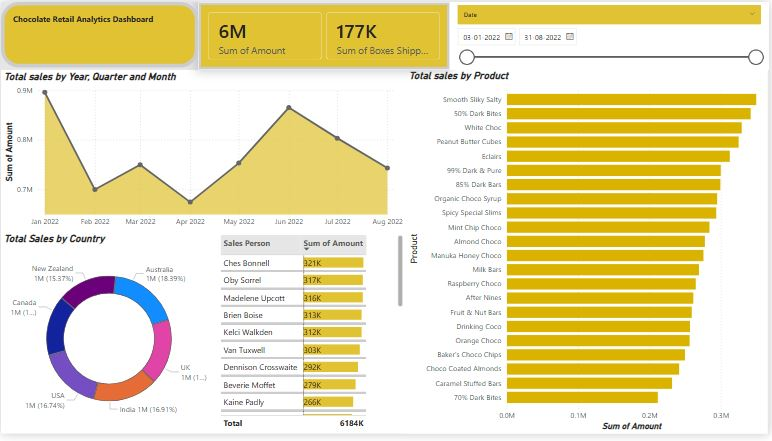

Layout of this report page (visuals, bound fields, positions):
{"tool":"powerbi","page":{"name":"Page 1","canvas":[1280,720],"ordinal":0},"visuals":[{"type":"donutChart","title":"Total Sales by Country","fields":{"Category":["Chocolate Sales.Country"],"Y":["Sum(Chocolate Sales.Amount)"]},"box":[0,383.8,360,336.2],"z":0},{"type":"tableEx","fields":{"Values":["Chocolate Sales.Sales Person","Sum(Chocolate Sales.Amount)"]},"box":[360,383.8,315,336.2],"z":1000},{"type":"lineChart","title":"Total sales by Year, Quarter and Month","fields":{"Y":["Sum(Chocolate Sales.Amount)"],"Category":["Chocolate Sales.Date.Variation.Date Hierarchy.Year","Chocolate Sales.Date.Variation.Date Hierarchy.Quarter","Chocolate Sales.Date.Variation.Date Hierarchy.Month","Chocolate Sales.Date.Variation.Date Hierarchy.Day"]},"box":[0,112.5,675,270],"z":2000},{"type":"clusteredBarChart","title":"Total sales by Product","fields":{"Category":["Chocolate Sales.Product"],"Y":["Sum(Chocolate Sales.Amount)"]},"box":[675,111.7,603.3,608.3],"z":2001},{"type":"cardVisual","fields":{"Data":["Sum(Chocolate Sales.Amount)","Sum(Chocolate Sales.Boxes Shipped)"]},"box":[328.3,0,420,113.3],"z":2002},{"type":"slicer","fields":{"Values":["Chocolate Sales.Date"]},"box":[748.8,0,531.2,112.5],"z":2003},{"type":"textbox","box":[0,0,328.3,108.3],"z":2005}]}

Visuals, with their boxes in screenshot pixels (x1, y1, x2, y2), scaled from the page's 1280x720 canvas onto the 772x441 screenshot:
"Total Sales by Country" donutChart: <region>0, 235, 217, 440</region>
tableEx - Chocolate Sales.Sales Person x Sum(Chocolate Sales.Amount): <region>217, 235, 407, 440</region>
"Total sales by Year, Quarter and Month" lineChart: <region>0, 69, 407, 234</region>
"Total sales by Product" clusteredBarChart: <region>407, 68, 771, 440</region>
cardVisual - Sum(Chocolate Sales.Amount) x Sum(Chocolate Sales.Boxes Shipped): <region>198, 0, 451, 69</region>
slicer - Chocolate Sales.Date: <region>452, 0, 771, 69</region>
textbox: <region>0, 0, 198, 66</region>
